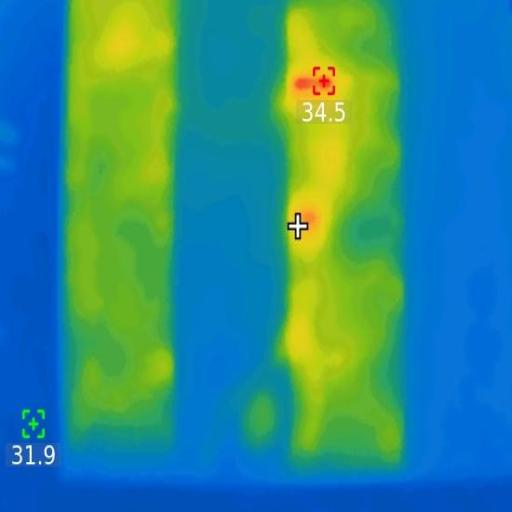hotspot: (284, 63, 342, 100), (295, 202, 318, 234)
